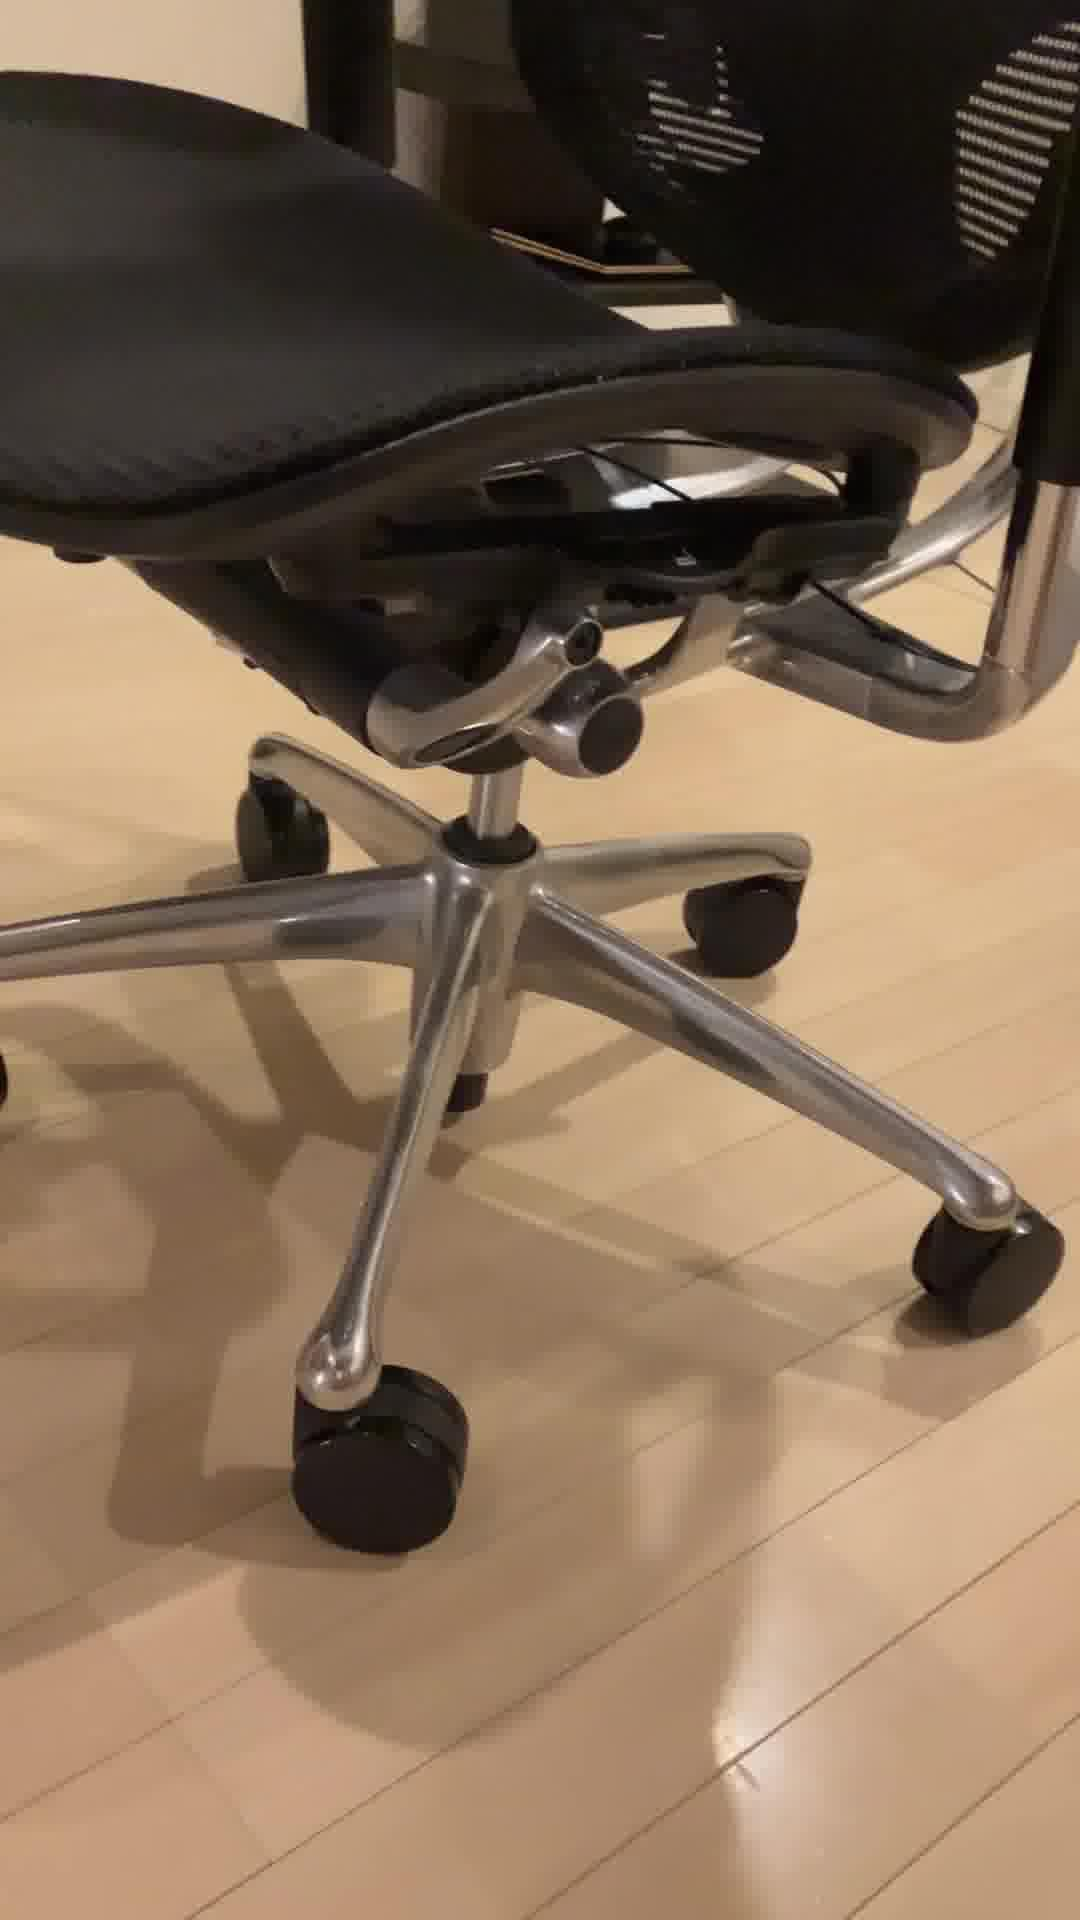okamura-contessa: (0, 0, 1080, 1553)
